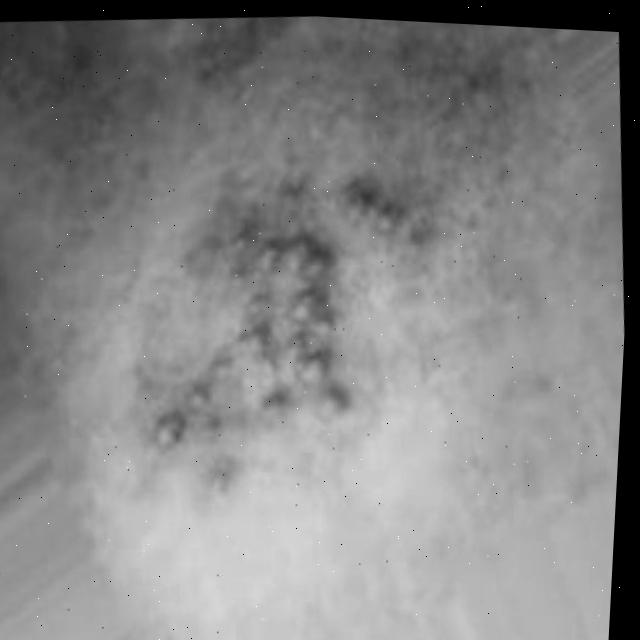Shingles: (123, 163, 428, 470)
